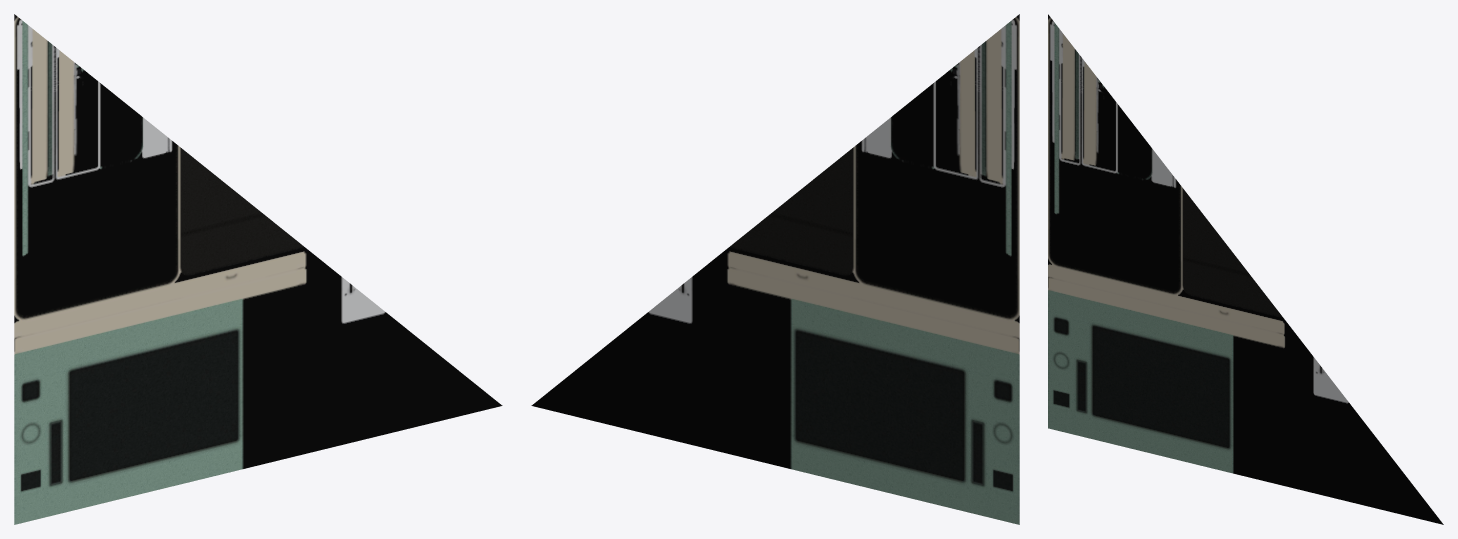
Rendered from film_skin_mint.glb.
The picture shows the model from 3 angles, left to right: view 1: azimuth 30°, elevation 25°; view 2: azimuth 150°, elevation 25°; view 3: azimuth 330°, elevation 25°; orthographic projection. The views are drawn at different scales.
Visible parts, largest first — view 1: swatch; view 2: swatch; view 3: swatch.
Part boxes in pixels (left/top/right/bottom): swatch: left=14, top=14, right=502, bottom=524; swatch: left=531, top=14, right=1019, bottom=524; swatch: left=1048, top=14, right=1443, bottom=524.
Size of the model in its own units: 1 by 1 by 0.
Materials: 1 (1 with a texture image).
